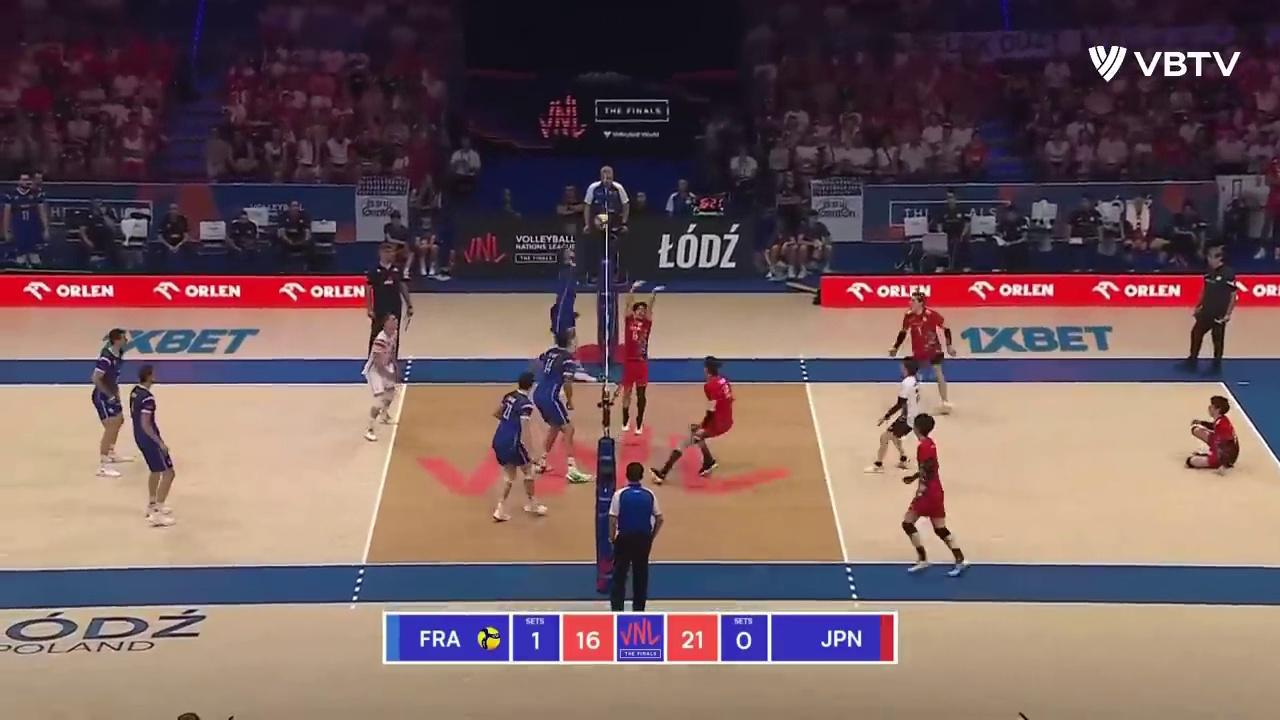ball: (592, 213, 609, 232)
